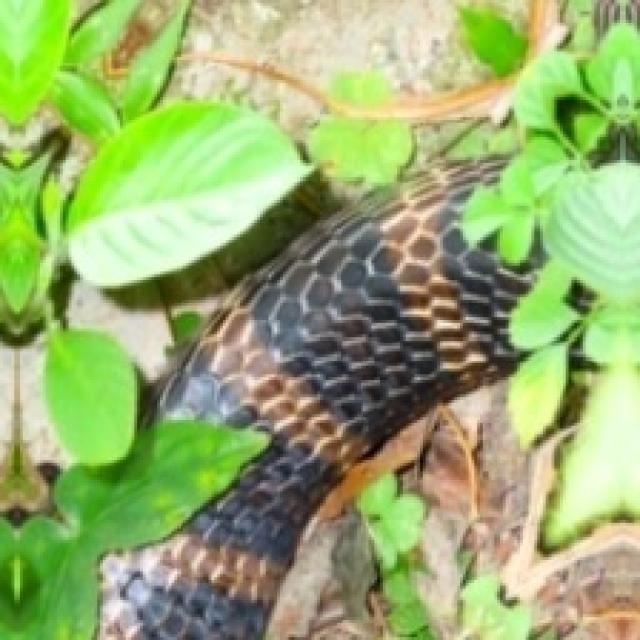king cobra: (103, 23, 637, 637), (100, 163, 529, 637)
